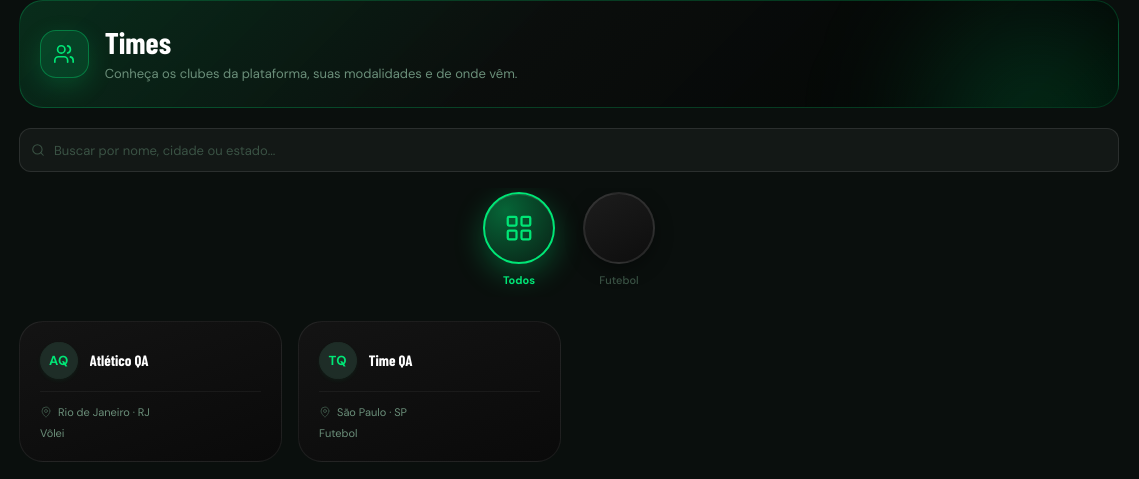
/times: listagem, busca e filtro › filtra pela busca (nome, cidade ou estado)
The width and height of the screenshot is (1139, 479).
Check: the heading "Time QA" is shown, box [368,351,412,369]
Type "Rio de" into the field with placeholder "Buscar por nome, cidade ou estado..." at (569, 150), box [19,128,1119,172]
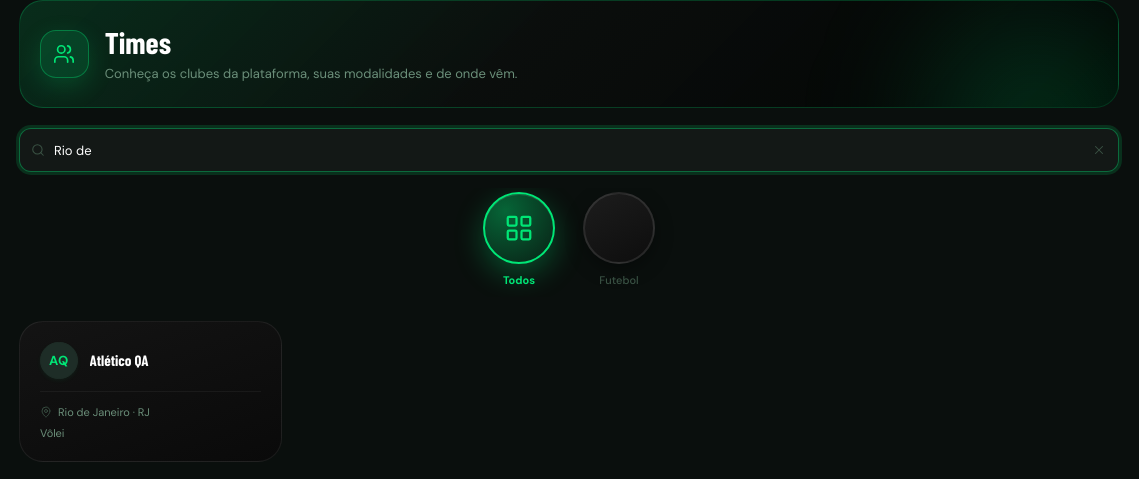
Check: the heading "Atlético QA" is shown, box [90,351,148,369]
Check: the link "Time QA" is gone
